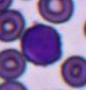L: (20, 24, 63, 66)
